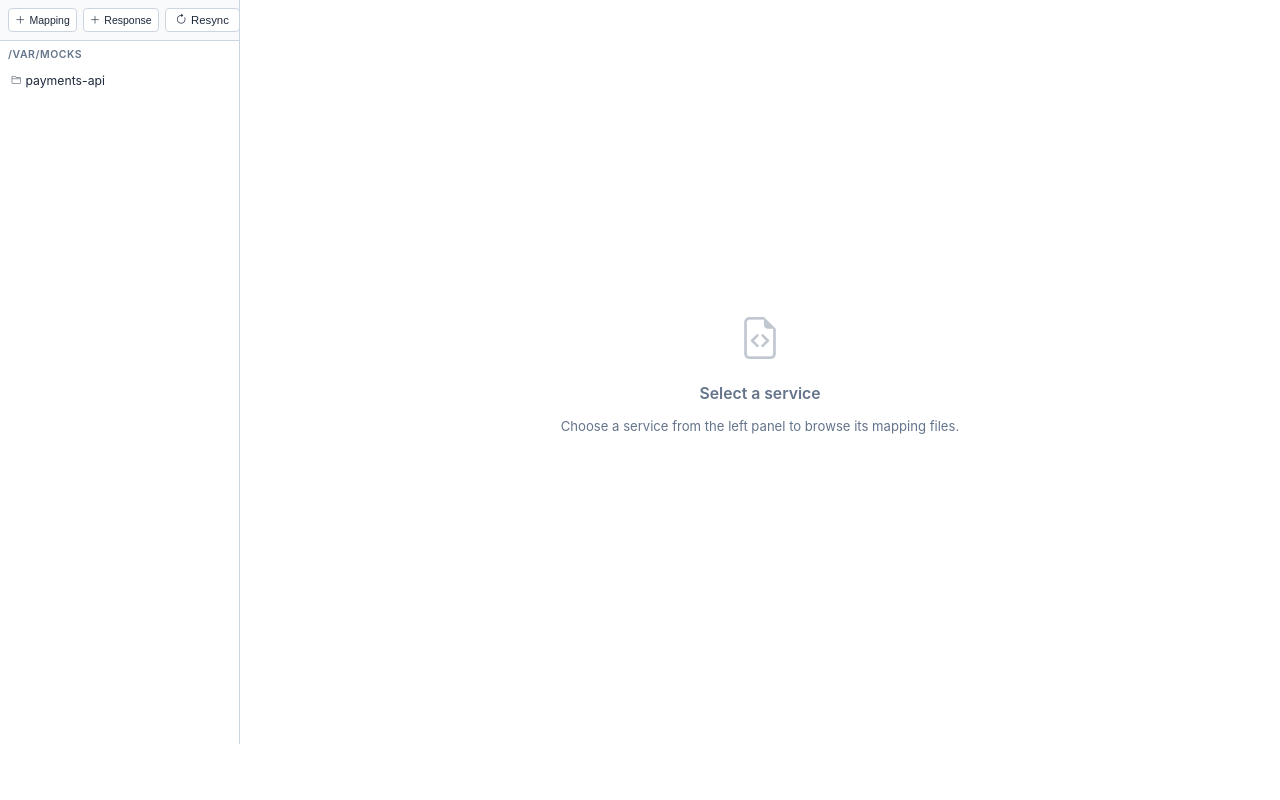
Test: MappingsPage — empty state when service is selected but no files › clicking New Mapping from empty state opens file name modal
Click the text "payments-api" at (65, 80), box [25,73,105,88]
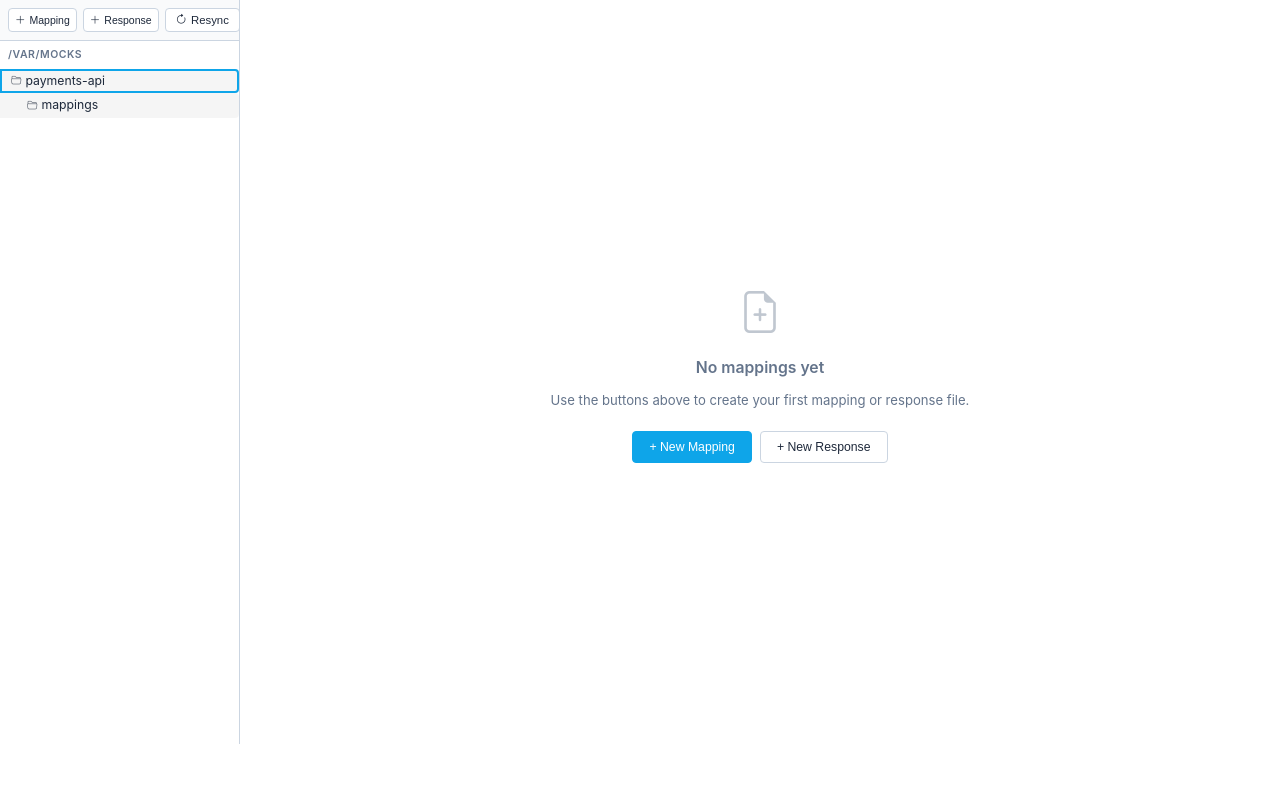
Result: the button with test id "mappings-btn-new-mapping-empty" is shown
Click the button with test id "mappings-btn-new-mapping-empty" at (692, 447), box [632,431,752,463]
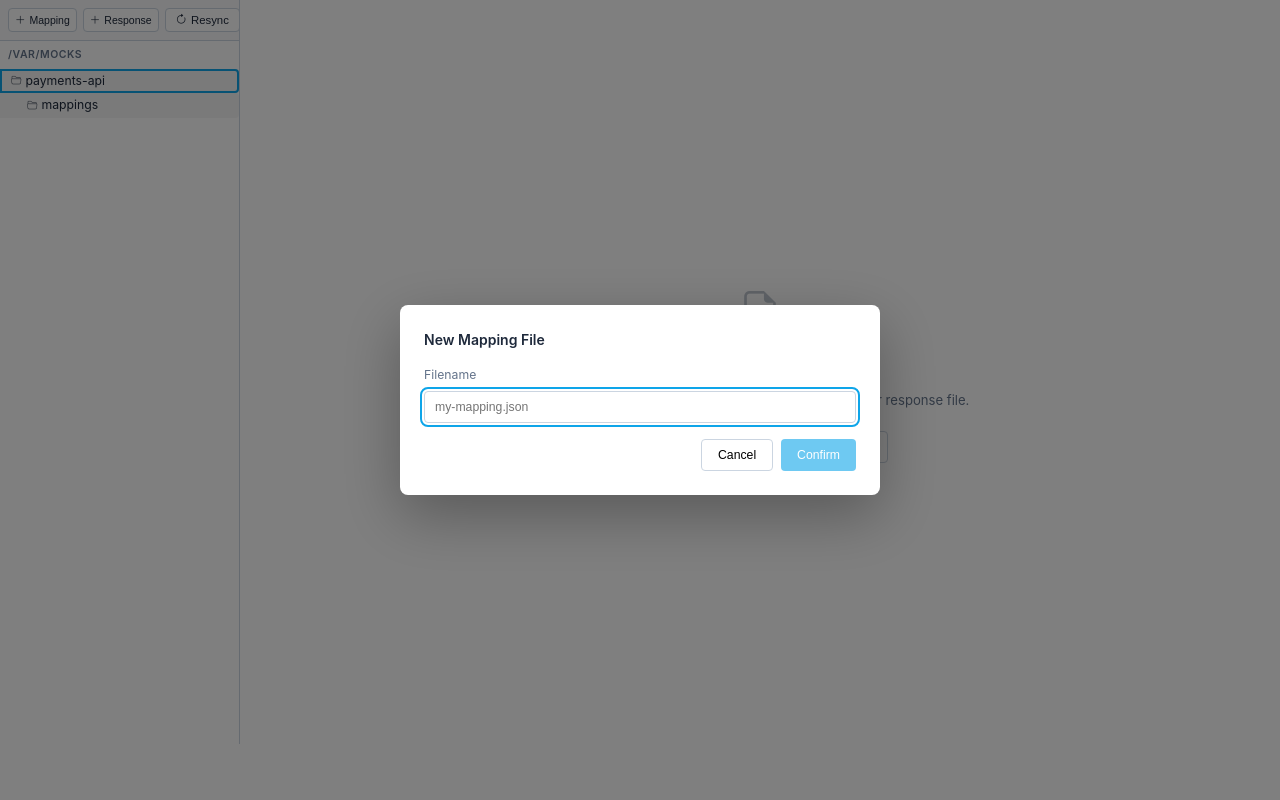
Result: the dialog with test id "mappings-modal-file-name" is shown
